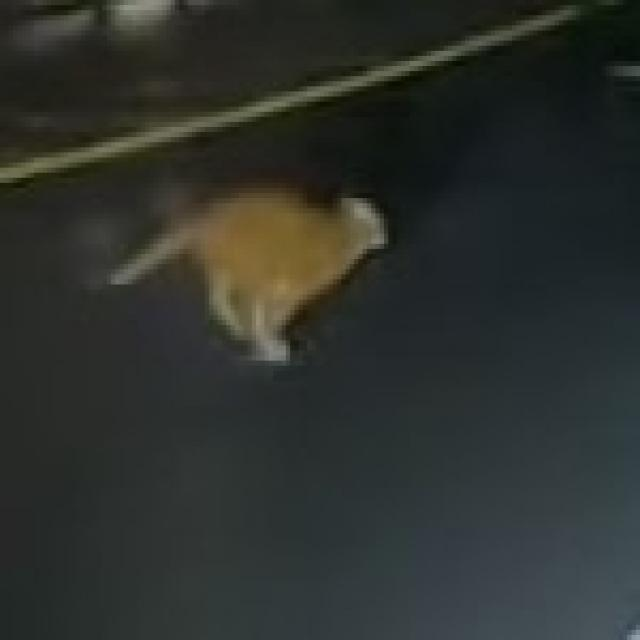cat: (100, 165, 406, 390)
